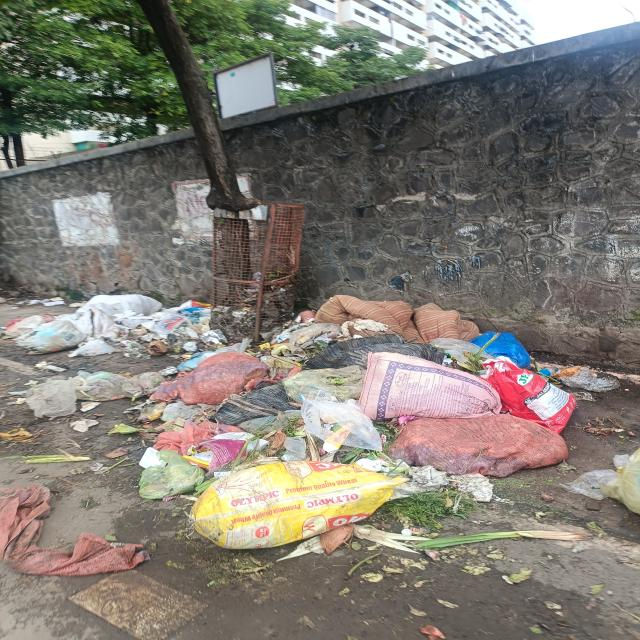garbage: (181, 302, 569, 540), (20, 296, 221, 357)
